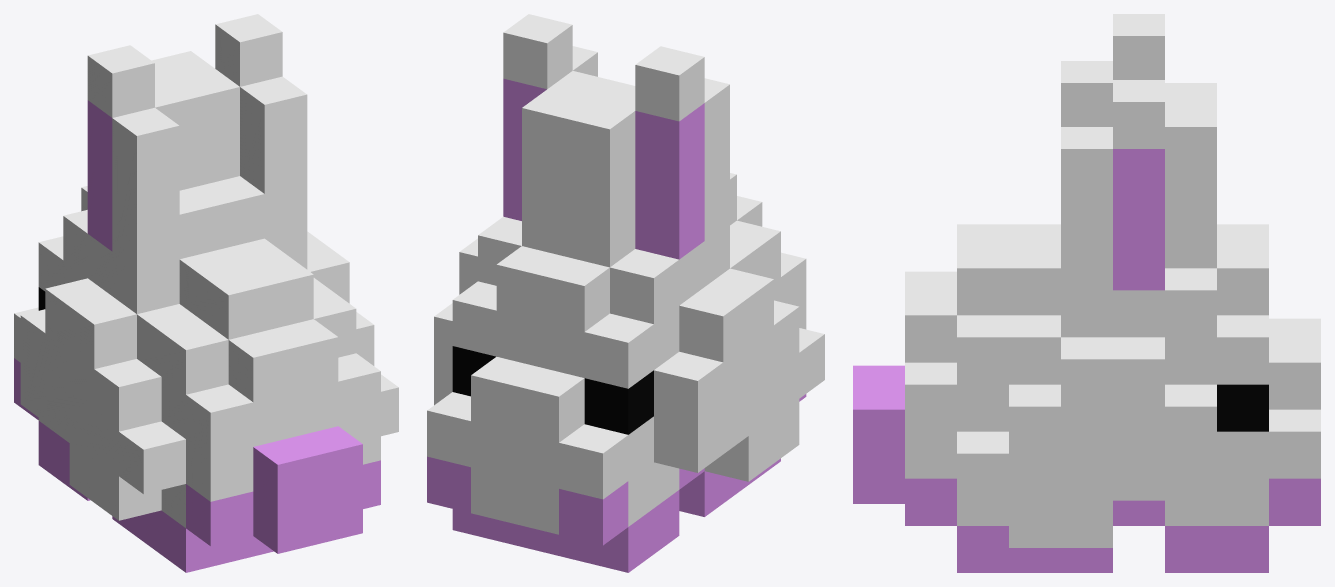
File: Bun.fbx
The picture shows the model from 3 angles, left to right: view 1: azimuth 30°, elevation 25°; view 2: azimuth 150°, elevation 25°; view 3: azimuth 270°, elevation 25°; orthographic projection. The views are drawn at different scales.
Parts seen in each view (by area): view 1: Untitled; view 2: Untitled; view 3: Untitled.
Boxes of the visible parts, x1,y1,x2,y2 form: Untitled: (14, 14, 398, 572); Untitled: (427, 14, 824, 572); Untitled: (853, 14, 1320, 572).
Bounding box in the file's own units: 60 × 100 × 90.
Materials: 1 (1 with a texture image).
